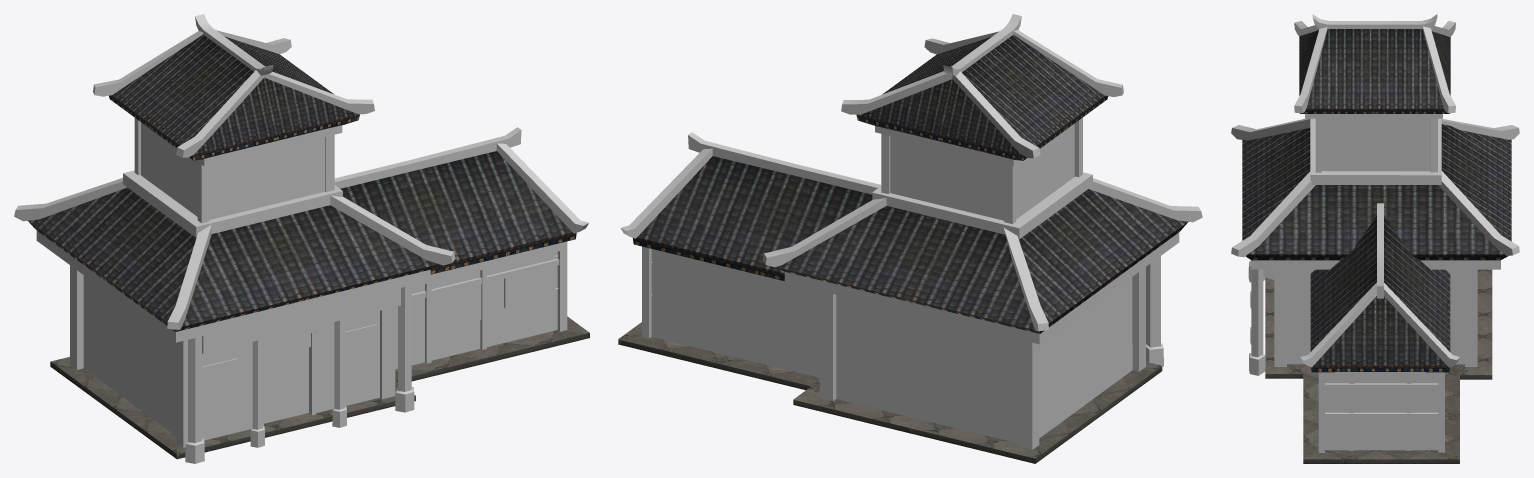
File: s7_unioncity_jianzhu_bieshu_01.FBX
3 views of the same model, side by side, from view 1: azimuth 30°, elevation 25°; view 2: azimuth 150°, elevation 25°; view 3: azimuth 270°, elevation 25° (orthographic). The views are drawn at different scales.
Visible parts, largest first — view 1: Object01cvcv, s7_unioncity_jianzhu_bieshu_01_wa, s7_unioncity_jianzhu_bieshu_01_shimian; view 2: Object01cvcv, s7_unioncity_jianzhu_bieshu_01_wa, s7_unioncity_jianzhu_bieshu_01_shimian; view 3: s7_unioncity_jianzhu_bieshu_01_wa, Object01cvcv, s7_unioncity_jianzhu_bieshu_01_shimian.
Boxes of the visible parts, bbox=[...] form: Object01cvcv: bbox=[14, 14, 588, 463]; s7_unioncity_jianzhu_bieshu_01_wa: bbox=[28, 34, 589, 459]; s7_unioncity_jianzhu_bieshu_01_shimian: bbox=[51, 316, 589, 453]; Object01cvcv: bbox=[620, 14, 1202, 449]; s7_unioncity_jianzhu_bieshu_01_wa: bbox=[618, 35, 1188, 463]; s7_unioncity_jianzhu_bieshu_01_shimian: bbox=[618, 322, 1161, 458]; s7_unioncity_jianzhu_bieshu_01_wa: bbox=[1242, 29, 1511, 463]; Object01cvcv: bbox=[1231, 14, 1519, 452]; s7_unioncity_jianzhu_bieshu_01_shimian: bbox=[1265, 269, 1492, 459].
Size of the model in its own units: 7.55 by 5.43 by 4.58.
